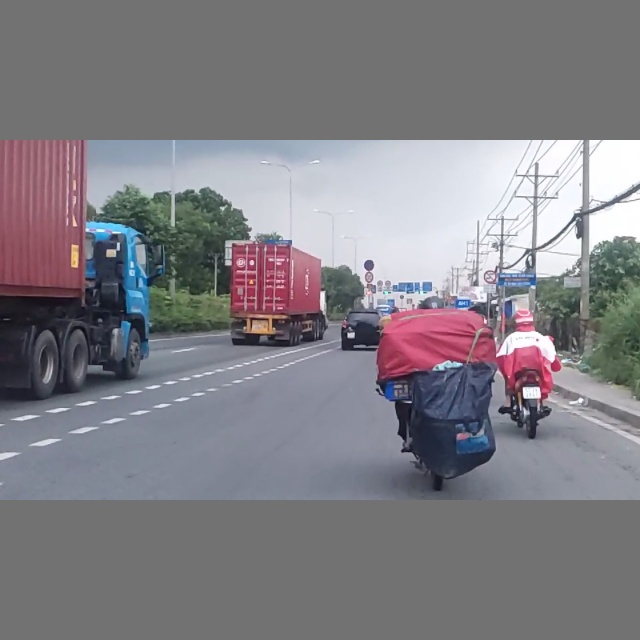P.107: (484, 270, 497, 284)
P.130: (363, 259, 375, 271)
